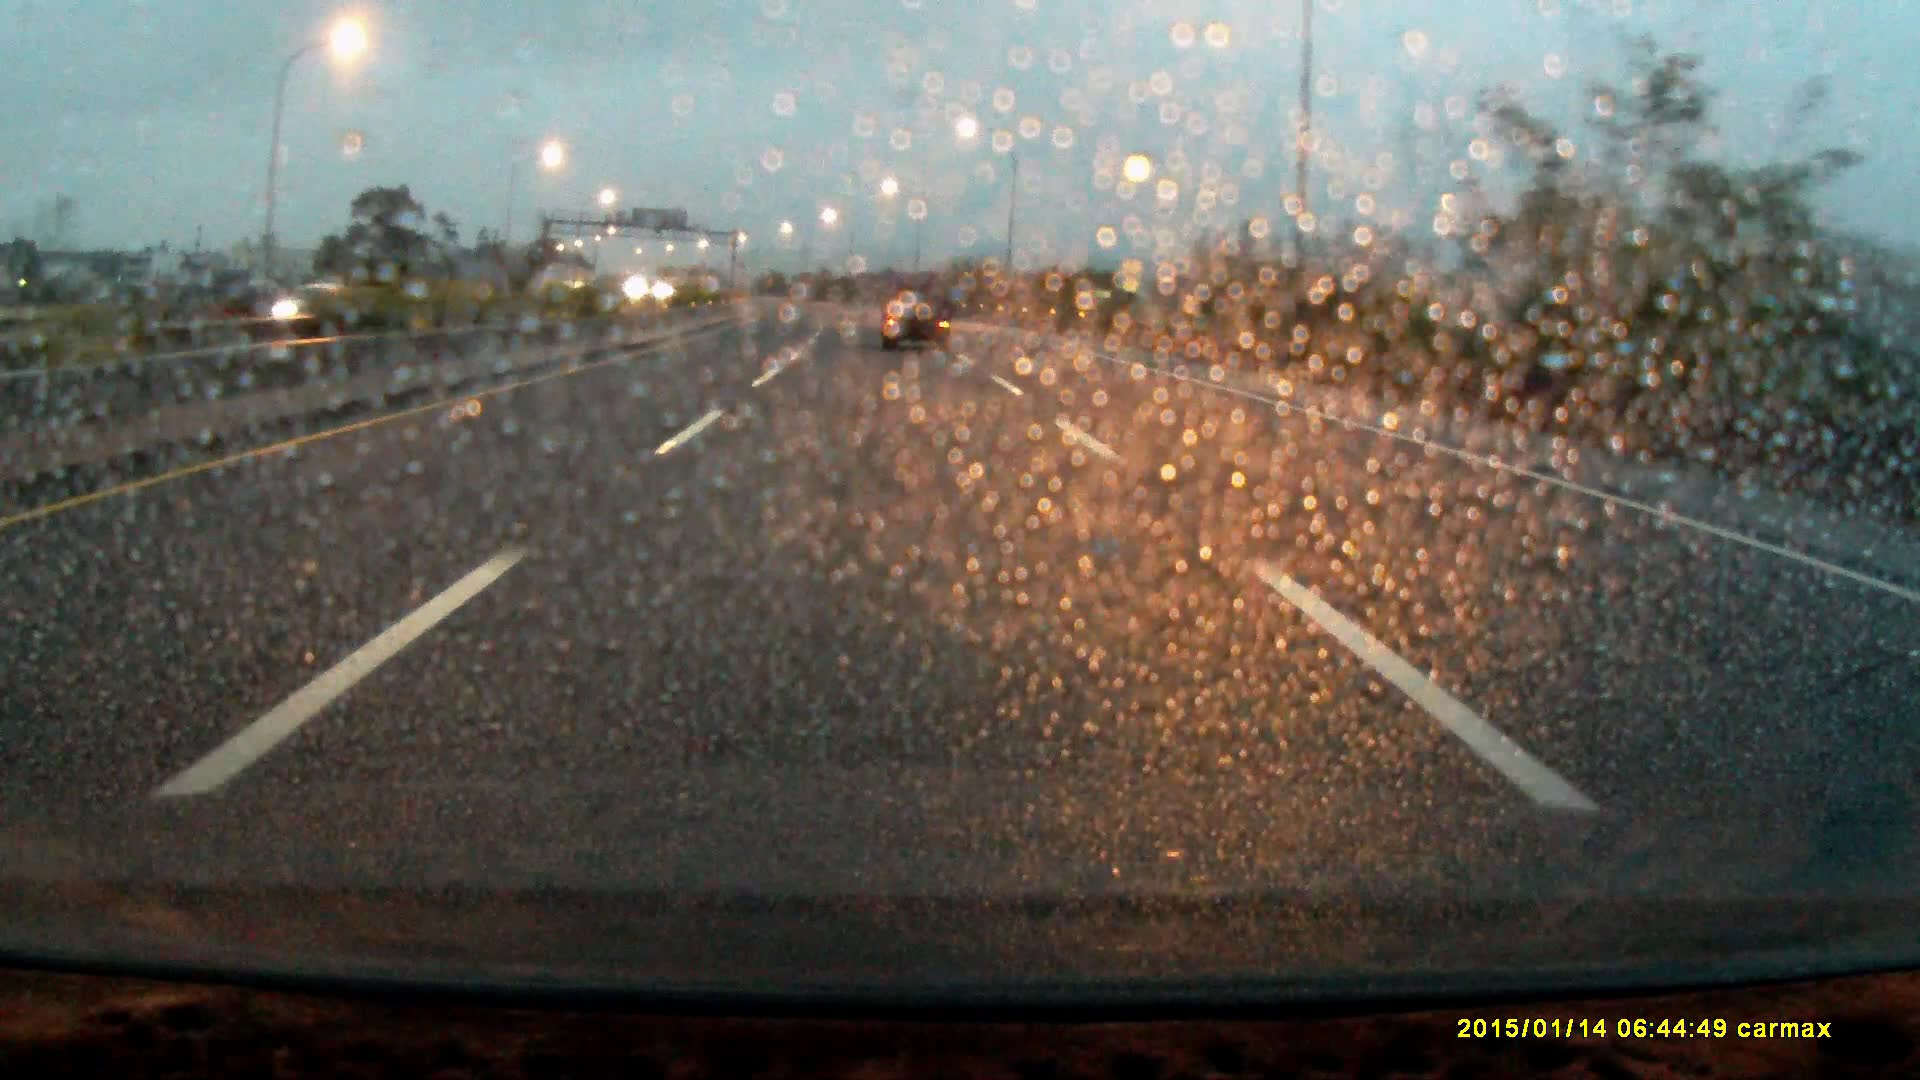vehicle: (881, 269, 951, 353), (276, 285, 353, 320)
